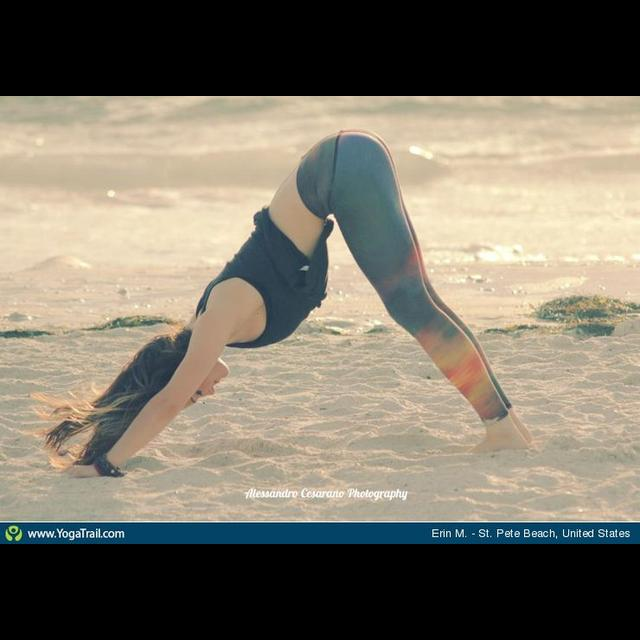Downward-Facing_Dog: (25, 125, 571, 488)
